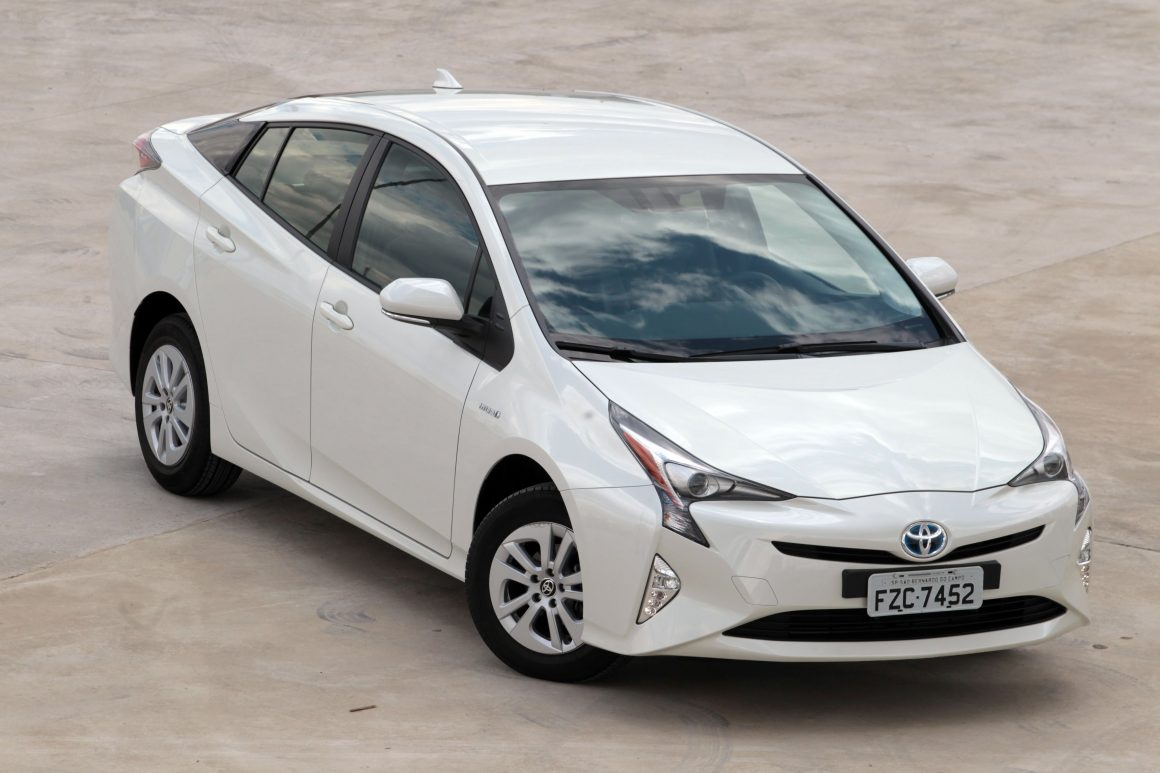Carro: (112, 63, 1107, 688)
